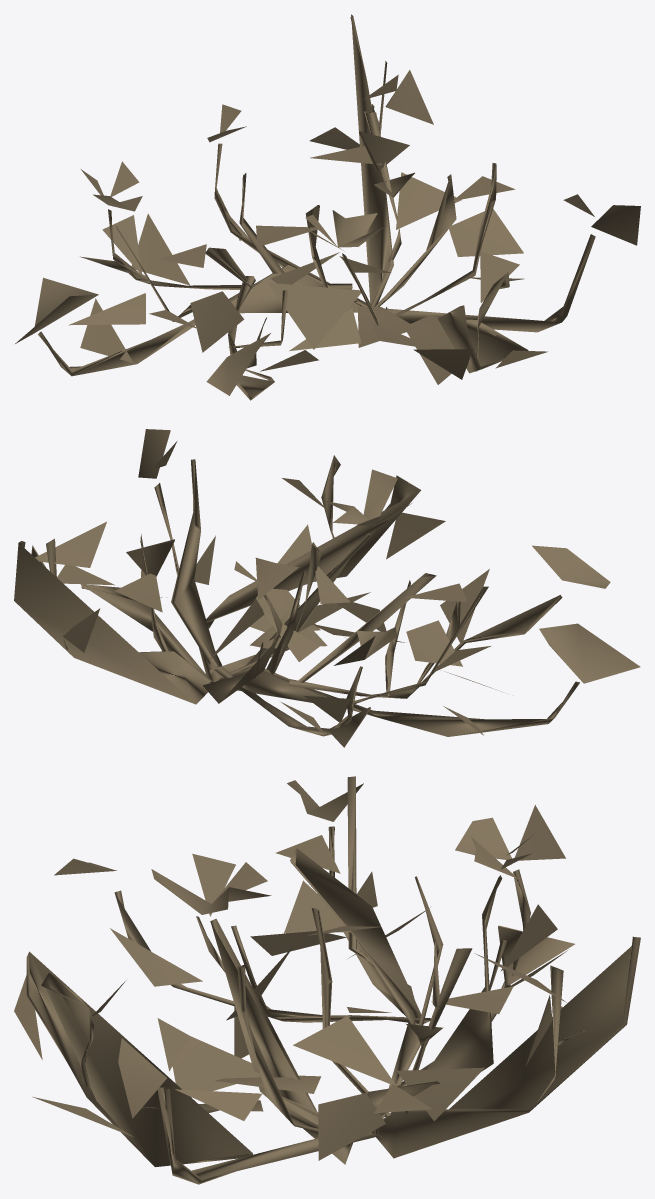
Rendered from flower-ursinia-lod1.glb.
3 renders of one model, top to bottom at view 1: azimuth 30°, elevation 25°; view 2: azimuth 150°, elevation 25°; view 3: azimuth 270°, elevation 25°, orthographic. The views are drawn at different scales.
Parts seen in each view (by area): view 1: flower-ursinia; view 2: flower-ursinia; view 3: flower-ursinia.
Part boxes in pixels (<box>): flower-ursinia: <box>15,14,640,400</box>; flower-ursinia: <box>14,429,640,747</box>; flower-ursinia: <box>14,776,640,1184</box>.
Bounding box in the file's own units: 1.01 × 0.3766 × 0.7745.
